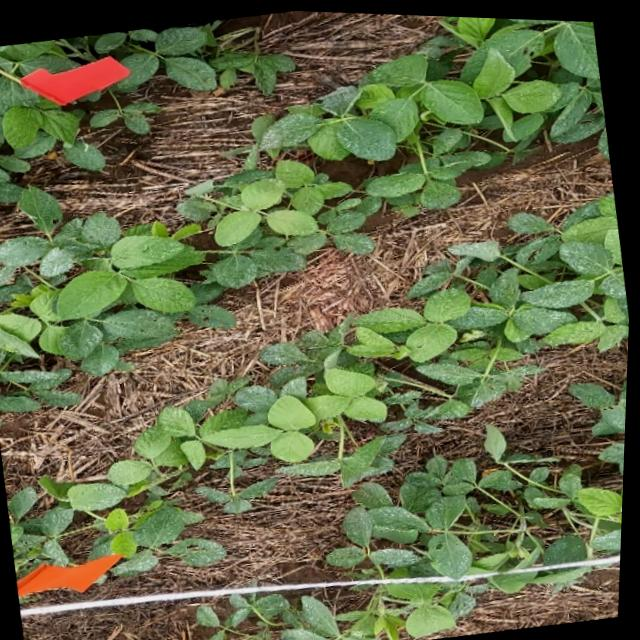soy_plant: (12, 192, 631, 574), (0, 13, 605, 382), (331, 422, 627, 575), (203, 562, 594, 640), (351, 581, 477, 640), (0, 350, 82, 411), (574, 378, 630, 431)
